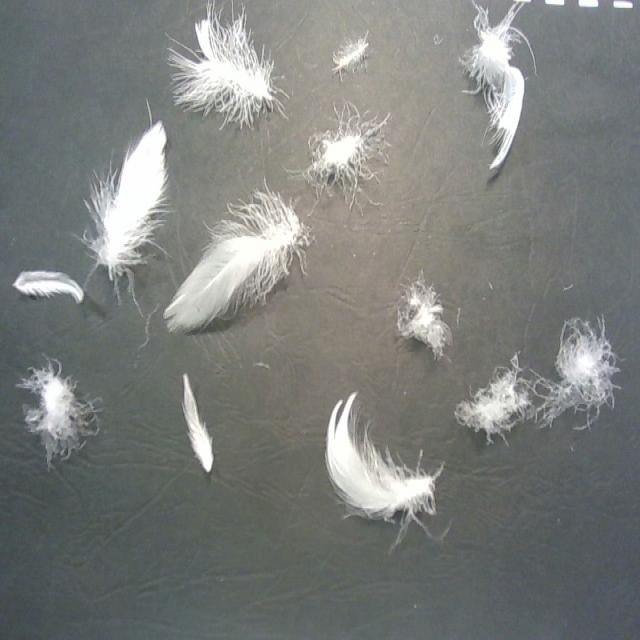feather: (161, 191, 308, 337), (323, 387, 443, 540), (83, 112, 174, 284), (167, 2, 279, 126), (458, 2, 533, 174), (537, 311, 626, 441), (295, 98, 398, 210), (13, 355, 102, 469), (453, 352, 535, 444), (393, 268, 454, 357), (177, 367, 219, 473), (10, 264, 83, 307), (329, 31, 377, 77)
